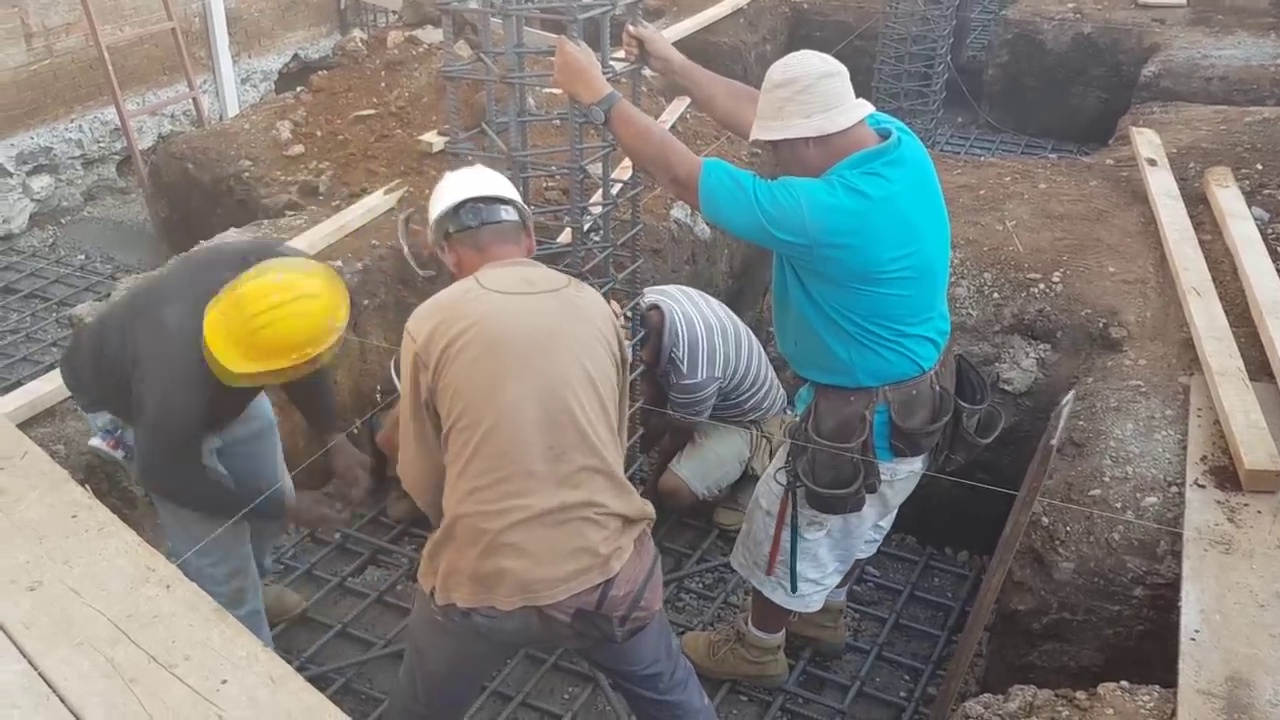helmet: (201, 250, 345, 391), (424, 163, 531, 252)
helmet-off: (740, 50, 881, 182)
helmet-on: (197, 248, 353, 402), (422, 159, 536, 288)
person: (574, 39, 962, 675), (361, 171, 669, 704), (41, 224, 375, 659), (614, 281, 774, 542)
